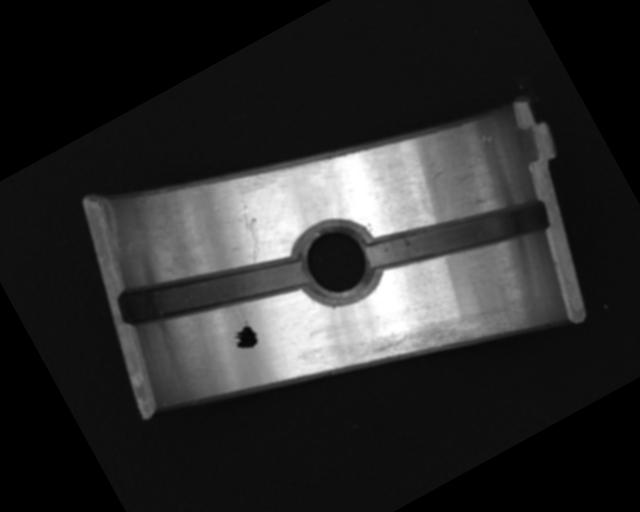blot: (226, 318, 262, 355)
bruise: (424, 166, 447, 184), (478, 130, 497, 147)
gap: (114, 212, 310, 369), (362, 161, 554, 310)
hole: (285, 208, 393, 318)
nick: (227, 202, 276, 263)
scratch: (348, 273, 522, 405)
